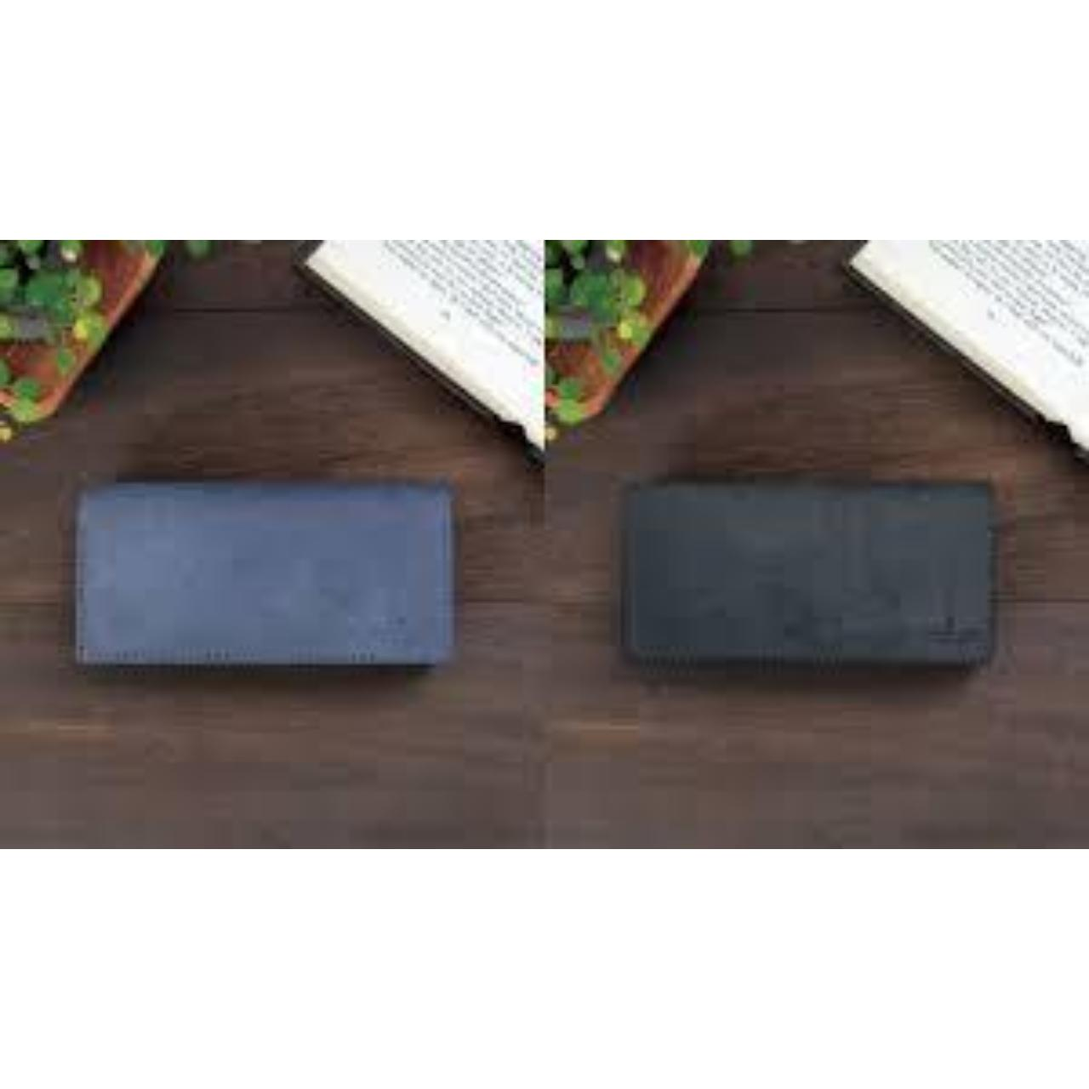wallet: (31, 436, 495, 723), (591, 440, 1027, 719)
